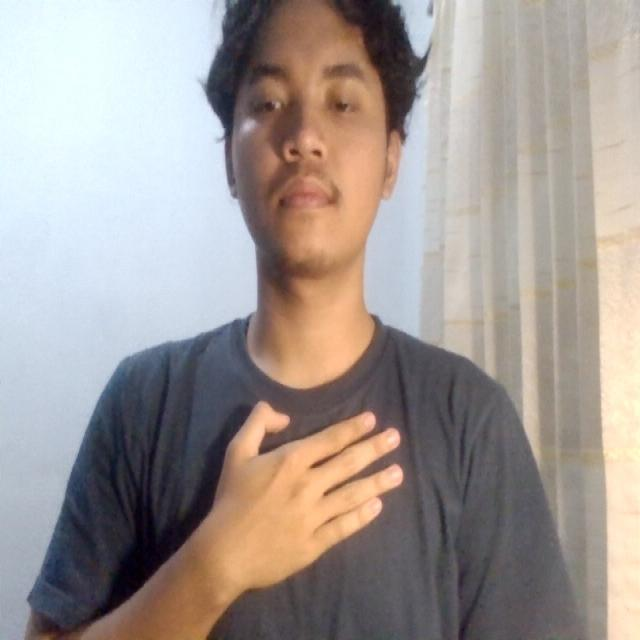Nama: (197, 383, 417, 601)
